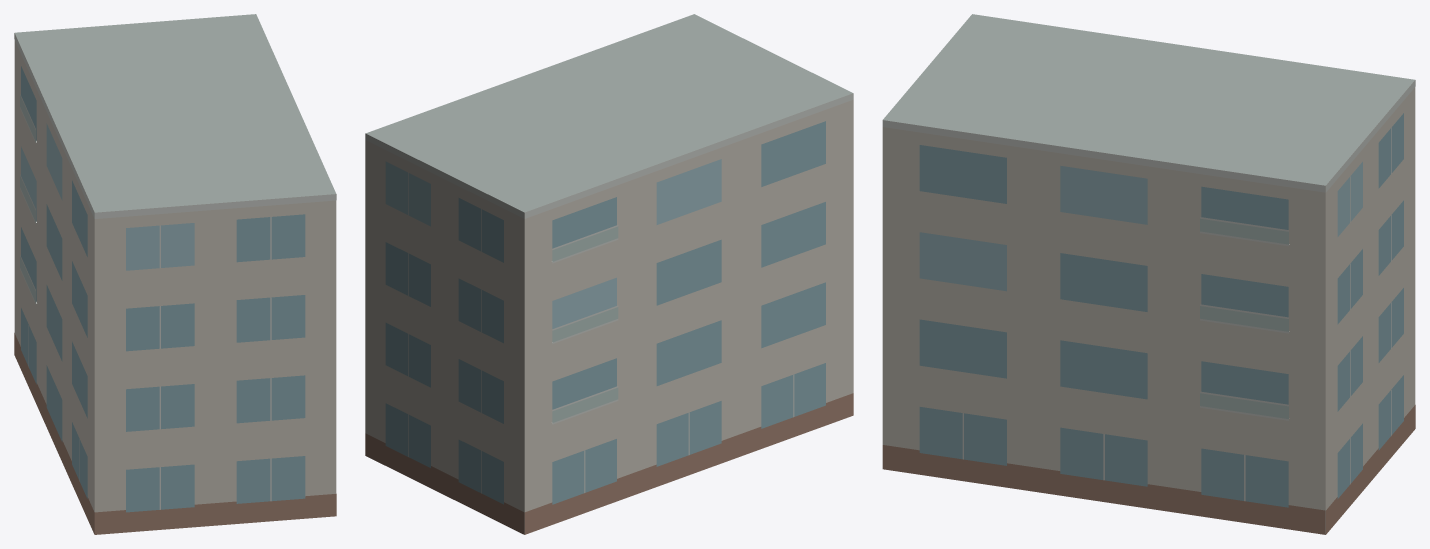
Rendered from survey-upis-32851876.glb.
The picture shows the model from 3 angles, left to right: view 1: azimuth 30°, elevation 25°; view 2: azimuth 150°, elevation 25°; view 3: azimuth 270°, elevation 25°; orthographic projection. The views are drawn at different scales.
Visible parts, largest first — view 1: survey-upis-32851876.tmp; view 2: survey-upis-32851876.tmp; view 3: survey-upis-32851876.tmp.
Boxes of the visible parts, left/top/right/bottom form: survey-upis-32851876.tmp: left=14, top=14, right=336, bottom=534; survey-upis-32851876.tmp: left=365, top=14, right=853, bottom=534; survey-upis-32851876.tmp: left=882, top=14, right=1415, bottom=534.
Size of the model in its own units: 12.88 by 12.2 by 16.88.
